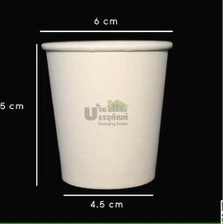paper_cup: (37, 36, 178, 193)
